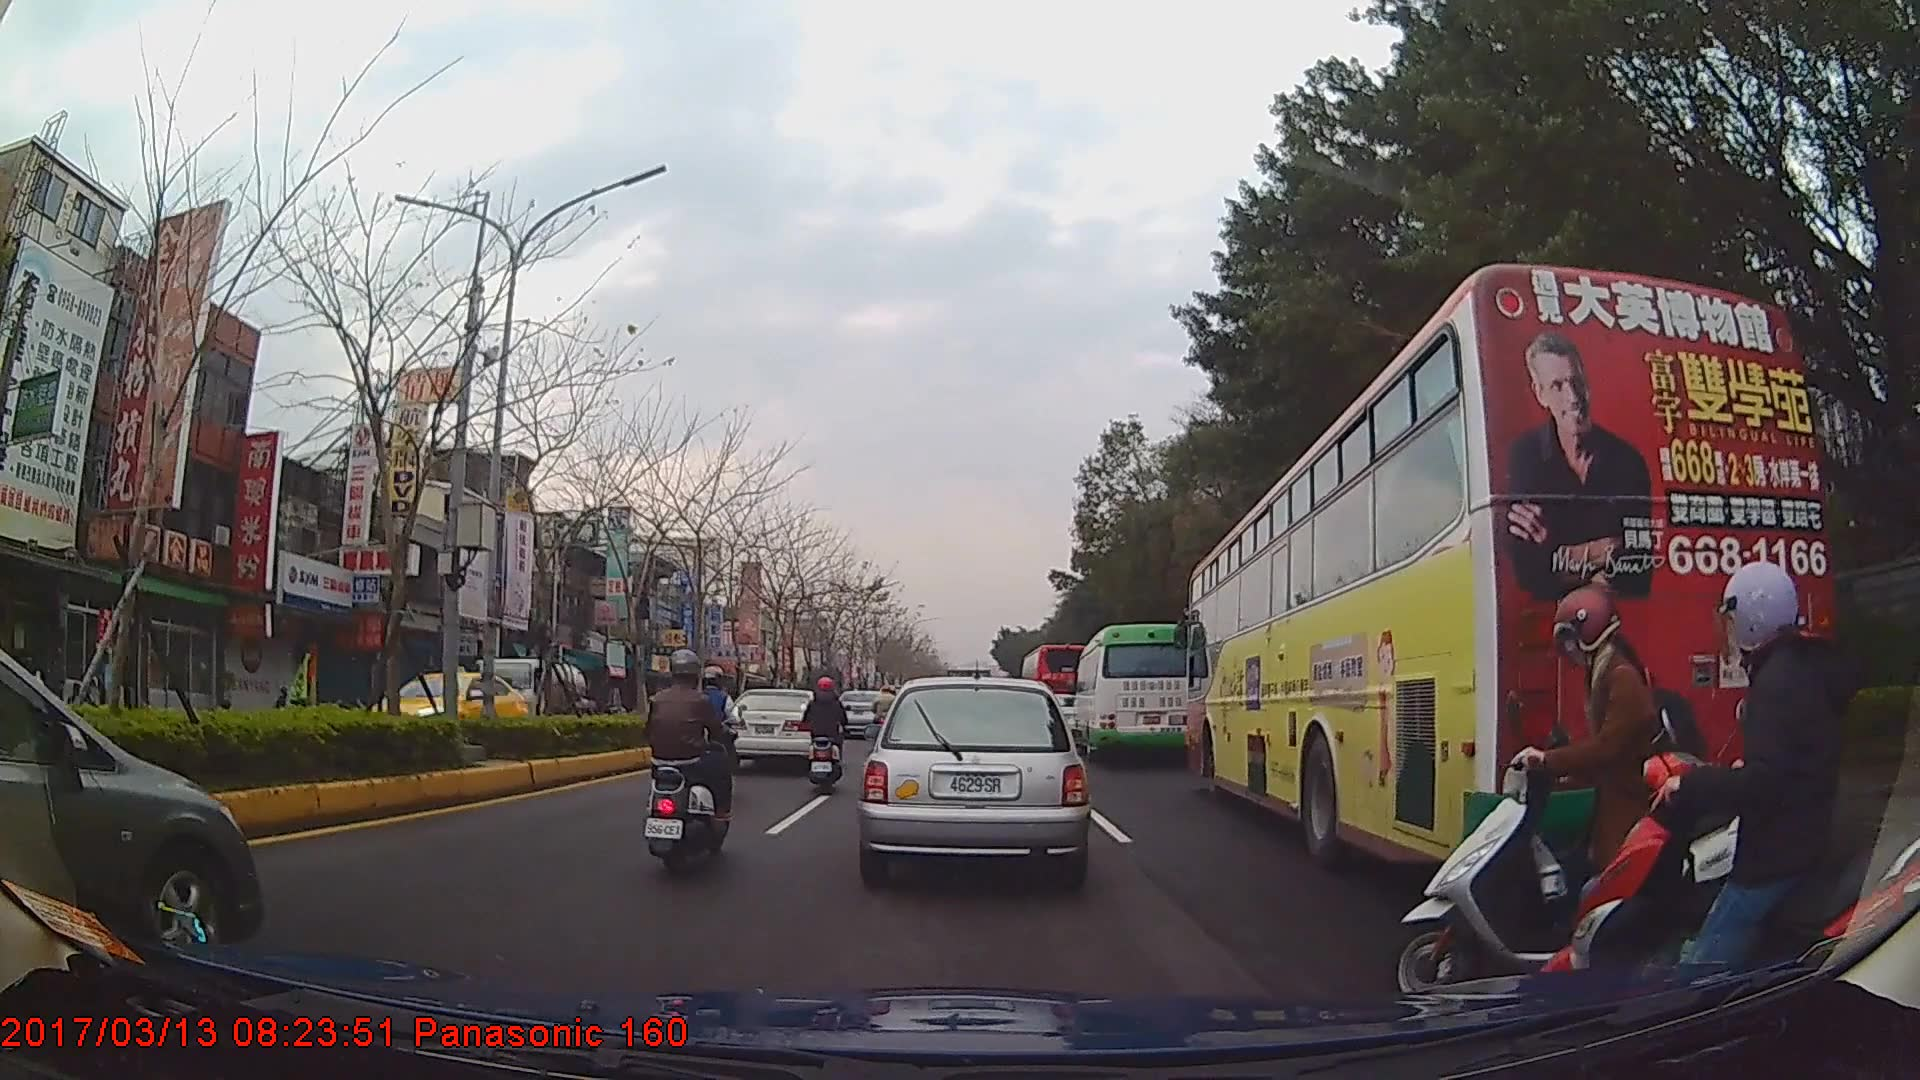rider: (1383, 590, 1776, 1023), (1555, 558, 1917, 1022), (644, 649, 738, 882), (690, 663, 745, 787), (800, 677, 850, 795), (870, 683, 898, 745)
vehicle: (1187, 263, 1839, 878), (0, 639, 260, 962), (861, 672, 1086, 887), (1069, 621, 1203, 763), (373, 662, 526, 755), (463, 651, 590, 744), (724, 688, 834, 775), (1016, 640, 1097, 731)
